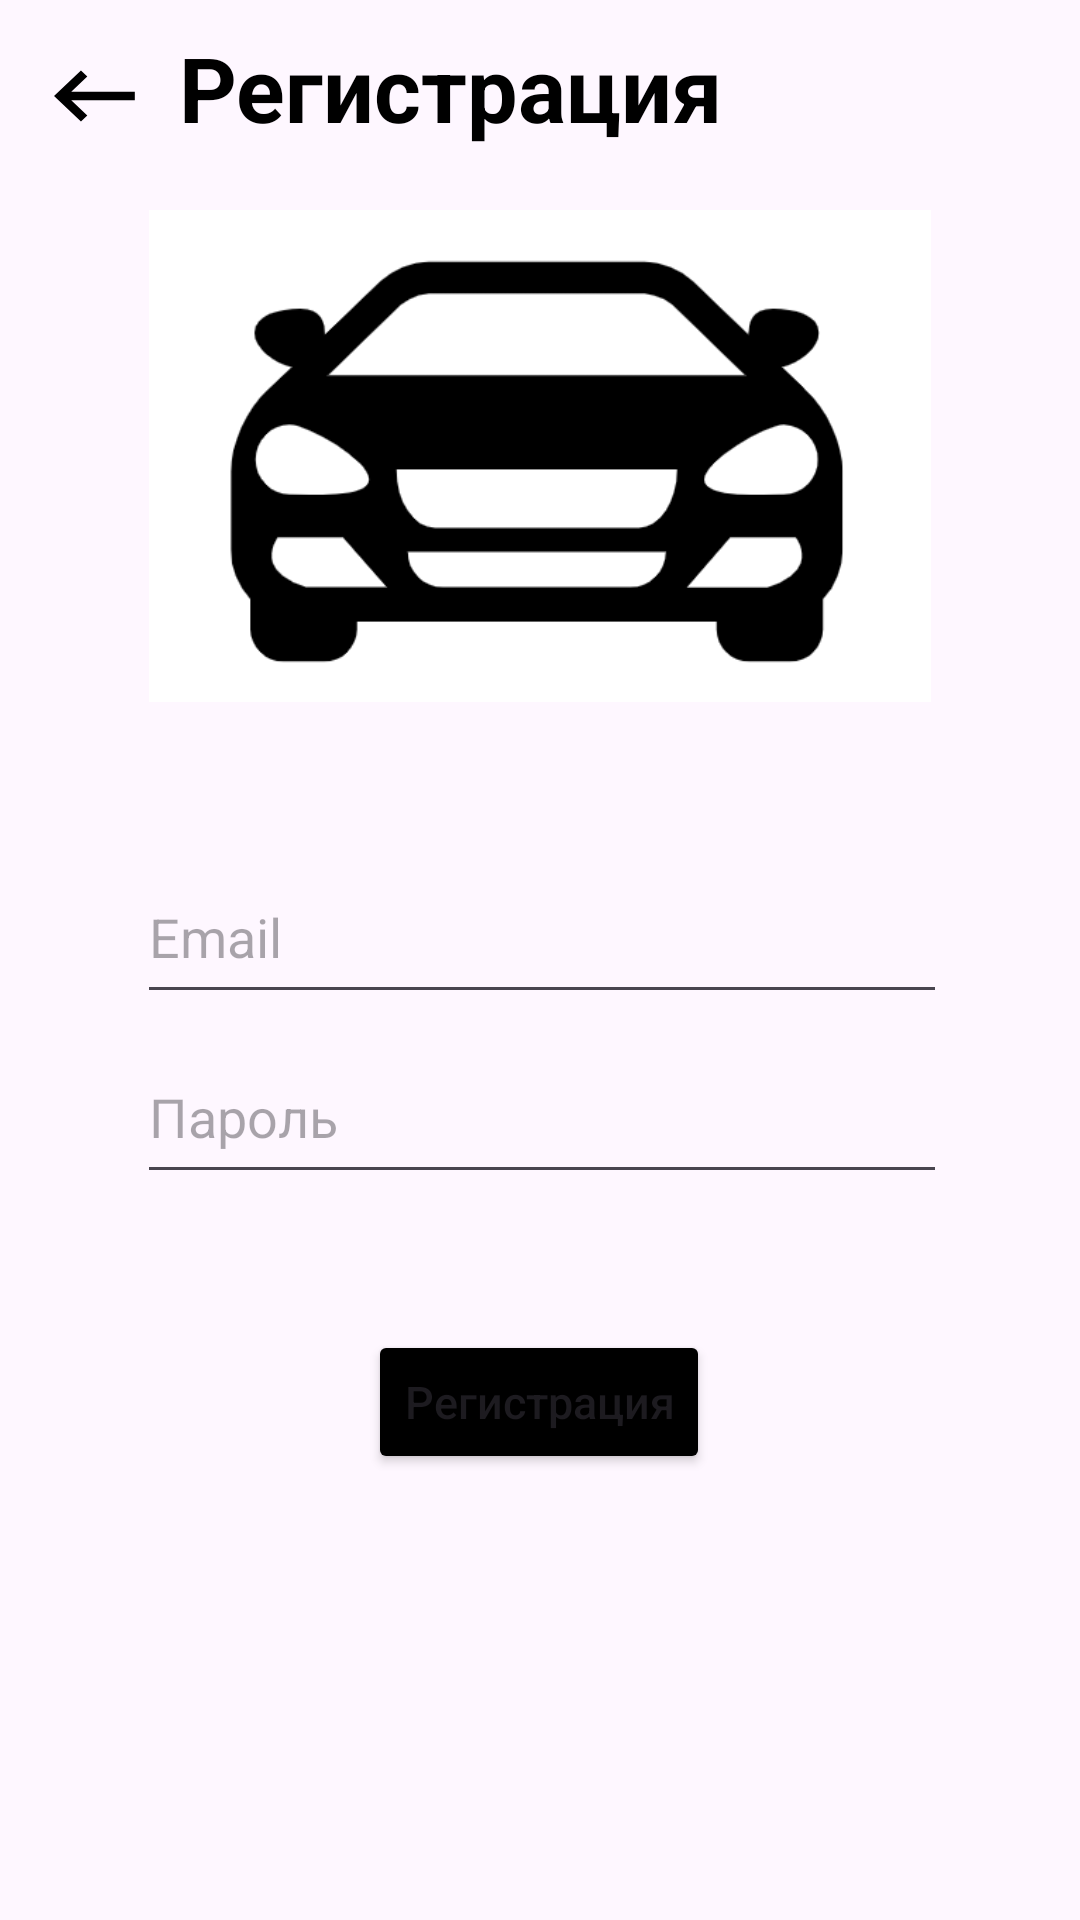

Screen size 1080 x 1920. Icon name, then its box in pixels as box=[x1, y1, x2, y2]:
back: box=[54, 70, 135, 122]
